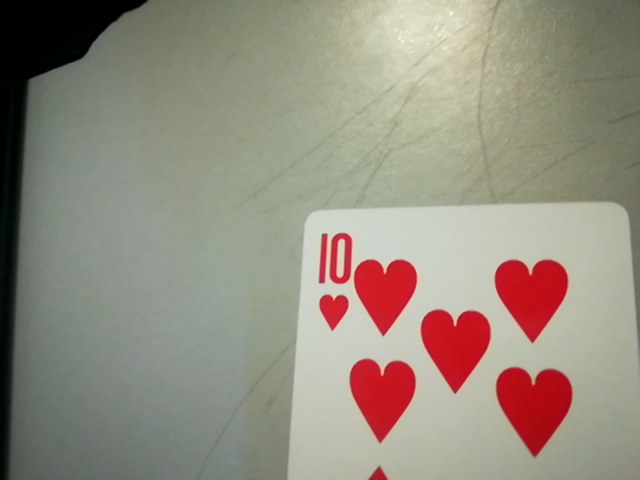hx 10: (306, 223, 357, 339)
